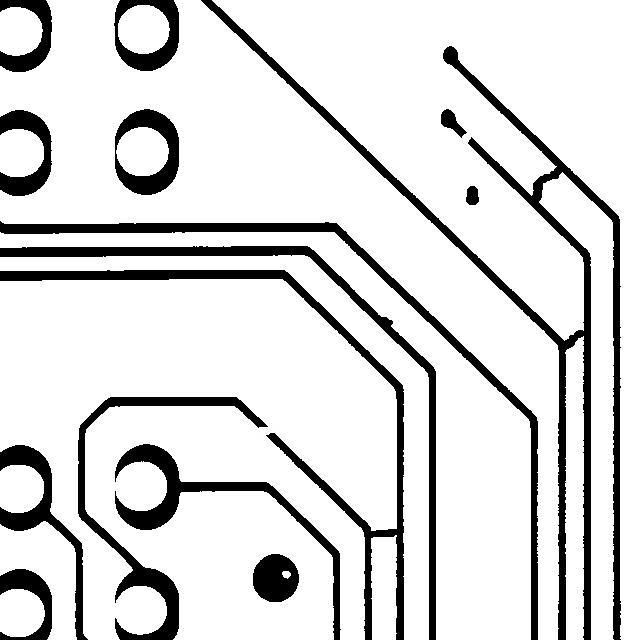copper: (456, 176, 488, 214)
open: (247, 417, 285, 444), (452, 123, 480, 153)
pin-hole: (272, 561, 300, 588)
short: (521, 156, 572, 215), (548, 320, 593, 360), (356, 519, 408, 547)
spur: (371, 307, 402, 336)
